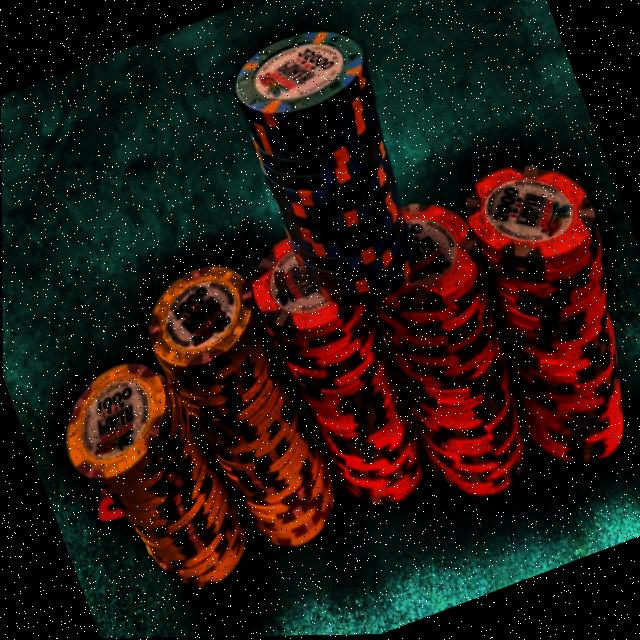Chip: (337, 178, 578, 530), (124, 235, 353, 592), (217, 9, 458, 328), (230, 198, 452, 540), (429, 139, 640, 496), (34, 323, 271, 630)
